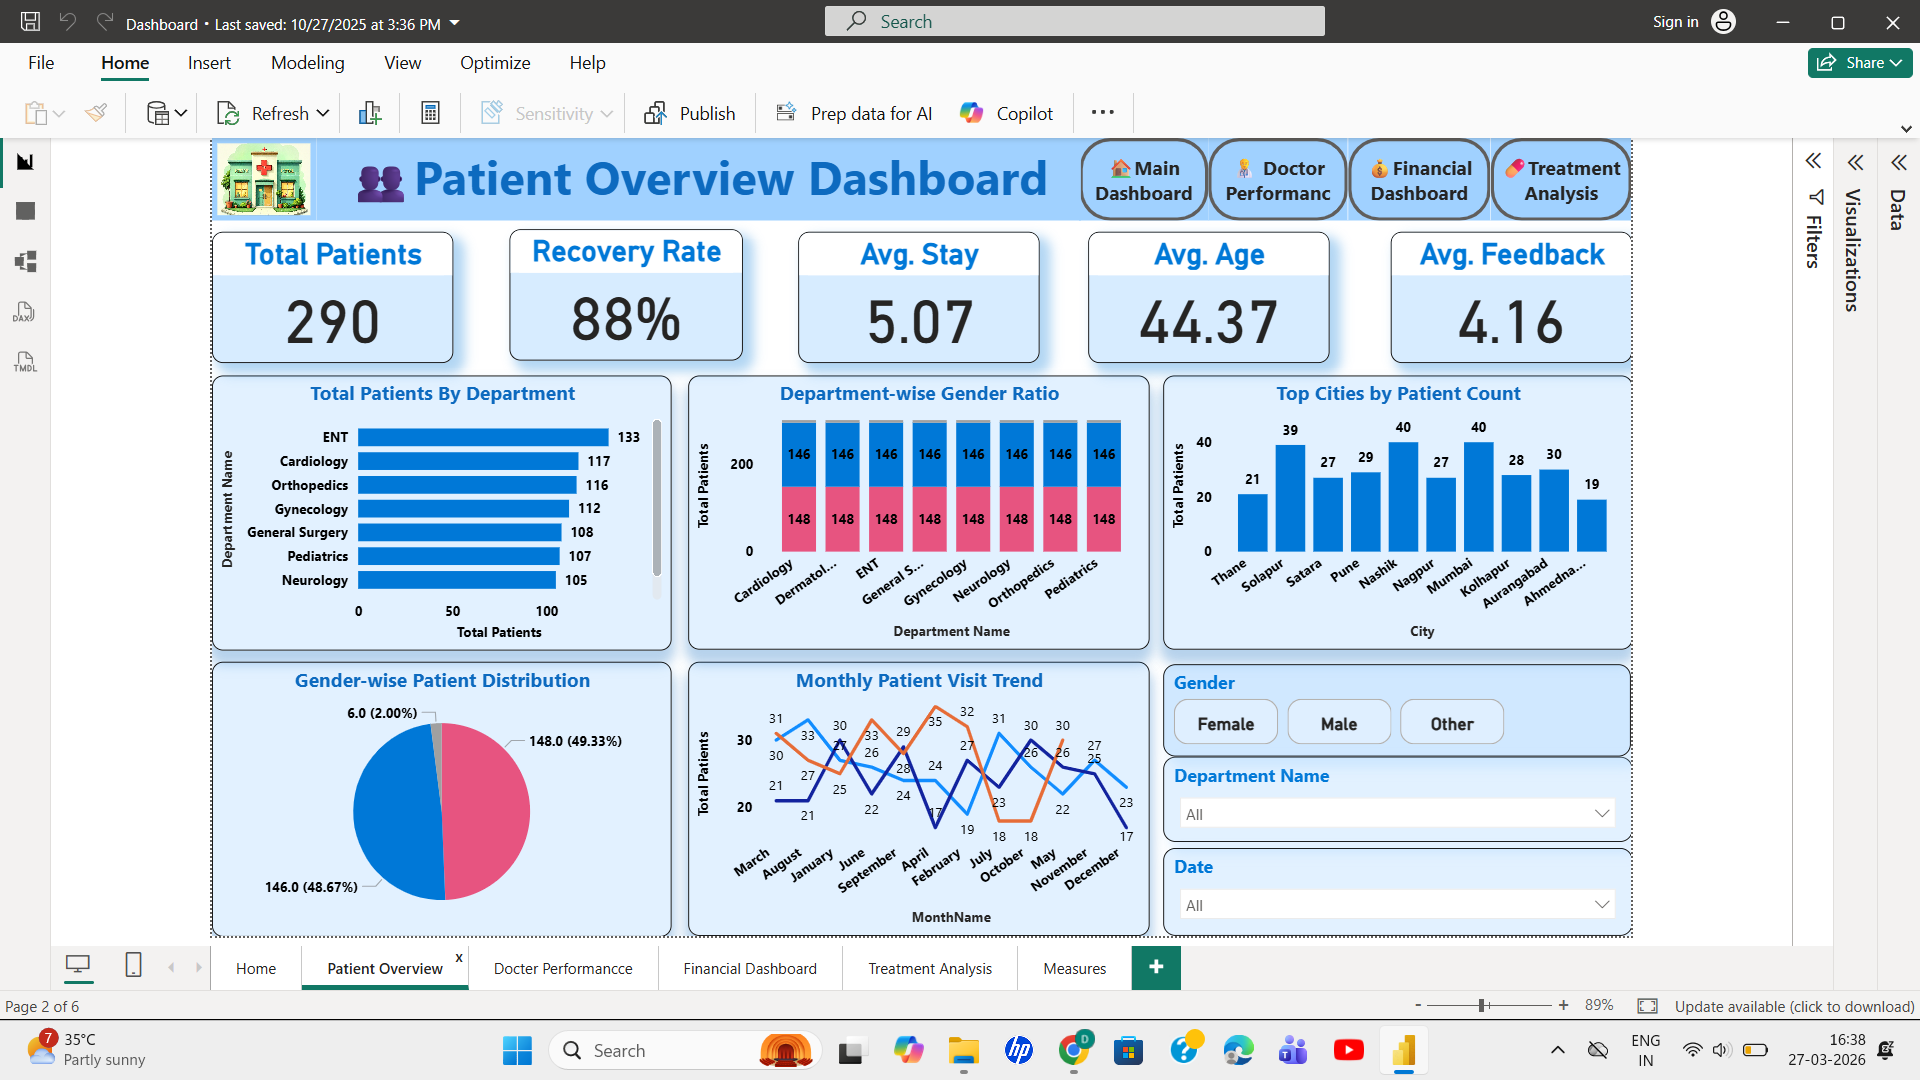

The dashboard page shown, as its layout file describes it:
{"tool":"powerbi","page":{"name":"Patient Overview","canvas":[1280,720],"ordinal":1},"visuals":[{"type":"textbox","box":[94.2,0,688.5,74.6],"z":0,"group":"g1"},{"type":"card","title":"Total Patients","fields":{"Values":["Measure.Total Patients"]},"box":[0,84.1,217.7,118.6],"z":0,"group":"g2"},{"type":"barChart","title":"Total Patients By Department","fields":{"Category":["DimDepartment.Department_Name"],"Y":["CountNonNull(FactPatientVisit.Visit_ID)"]},"box":[0,214,414.5,248.2],"z":0},{"type":"image","box":[0,0,94.2,74.6],"z":1000,"group":"g1"},{"type":"actionButton","box":[782.6,0,116.2,74.6],"z":1000},{"type":"card","title":"Recovery Rate","fields":{"Values":["Measure.Recovery Rate"]},"box":[268.6,82.1,210.5,118.6],"z":1000,"group":"g2"},{"type":"slicer","title":"Department Name","fields":{"Values":["DimDepartment.Department_Name"]},"box":[857.5,557.6,423.1,77],"z":1000,"group":"g3"},{"type":"card","title":"Avg. Stay","fields":{"Values":["Measure.Average Stay"]},"box":[528.3,84.1,217.7,118.6],"z":2000,"group":"g2"},{"type":"pieChart","title":"Gender-wise Patient Distribution","fields":{"Category":["DimPatient.Gender"],"Y":["CountNonNull(DimPatient.Patient_ID)"]},"box":[0,472,414.5,248.2],"z":2000},{"type":"slicer","title":"Date","fields":{"Values":["DimDate.Date"]},"box":[857.2,640.5,423.1,79.5],"z":2000,"group":"g3"},{"type":"actionButton","box":[898.8,0,126,74.6],"z":3000},{"type":"card","title":"Avg. Feedback","fields":{"Values":["Measure.Average Feedback"]},"box":[1062.6,84.1,217.7,118.6],"z":3000,"group":"g2"},{"type":"card","title":"Avg. Age","fields":{"Values":["Measure.Average Age"]},"box":[789.9,84.1,217.7,118.6],"z":4000,"group":"g2"},{"type":"columnChart","title":"Top Cities by Patient Count","fields":{"Category":["DimPatient.City"],"Y":["CountNonNull(DimPatient.Patient_ID)"]},"box":[857.2,214,423.1,247],"z":4000},{"type":"actionButton","box":[1024.7,0,128.4,74.6],"z":5000},{"type":"lineChart","title":"Monthly Patient Visit Trend","fields":{"Category":["DimDate.MonthName"],"Series":["DimDate.Year"],"Y":["Measure.Total Patients"]},"box":[429.2,472,415.8,247],"z":6000},{"type":"actionButton","box":[1153.1,0,127.2,74.6],"z":7000},{"type":"columnChart","title":"Department-wise Gender Ratio","fields":{"Category":["DimDepartment.Department_Name"],"Series":["DimPatient.Gender"],"Y":["CountNonNull(DimPatient.Patient_ID)"]},"box":[429.2,214,415.8,247],"z":8000},{"type":"advancedSlicerVisual","title":"Gender","fields":{"Values":["DimPatient.Gender"]},"box":[857.3,474.4,422,82.9],"z":8000,"group":"g3"},{"type":"group","id":"g1","title":"Group 1","box":[0,0,782.6,74.6],"z":9000},{"type":"group","id":"g2","title":"Group 2","box":[0,82.1,1280.3,120.6],"z":10000},{"type":"group","id":"g3","title":"Group 3","box":[857.2,474.4,423.4,245.6],"z":11000}]}

Visuals, with their boxes on the page's 1280x720 design canvas (x1, y1, x2, y2). These are canvas units, not pixel positions in the 1920x1080 screenshot, which may show the page scaled, cropped or inside an application window:
textbox: 94 0 783 75
"Total Patients" card: 0 84 218 203
"Total Patients By Department" barChart: 0 214 414 462
image: 0 0 94 75
actionButton: 783 0 899 75
"Recovery Rate" card: 269 82 479 201
"Department Name" slicer: 858 558 1281 635
"Avg. Stay" card: 528 84 746 203
"Gender-wise Patient Distribution" pieChart: 0 472 414 720
"Date" slicer: 857 640 1280 720
actionButton: 899 0 1025 75
"Avg. Feedback" card: 1063 84 1280 203
"Avg. Age" card: 790 84 1008 203
"Top Cities by Patient Count" columnChart: 857 214 1280 461
actionButton: 1025 0 1153 75
"Monthly Patient Visit Trend" lineChart: 429 472 845 719
actionButton: 1153 0 1280 75
"Department-wise Gender Ratio" columnChart: 429 214 845 461
"Gender" advancedSlicerVisual: 857 474 1279 557
"Group 1" group: 0 0 783 75
"Group 2" group: 0 82 1280 203
"Group 3" group: 857 474 1281 720
